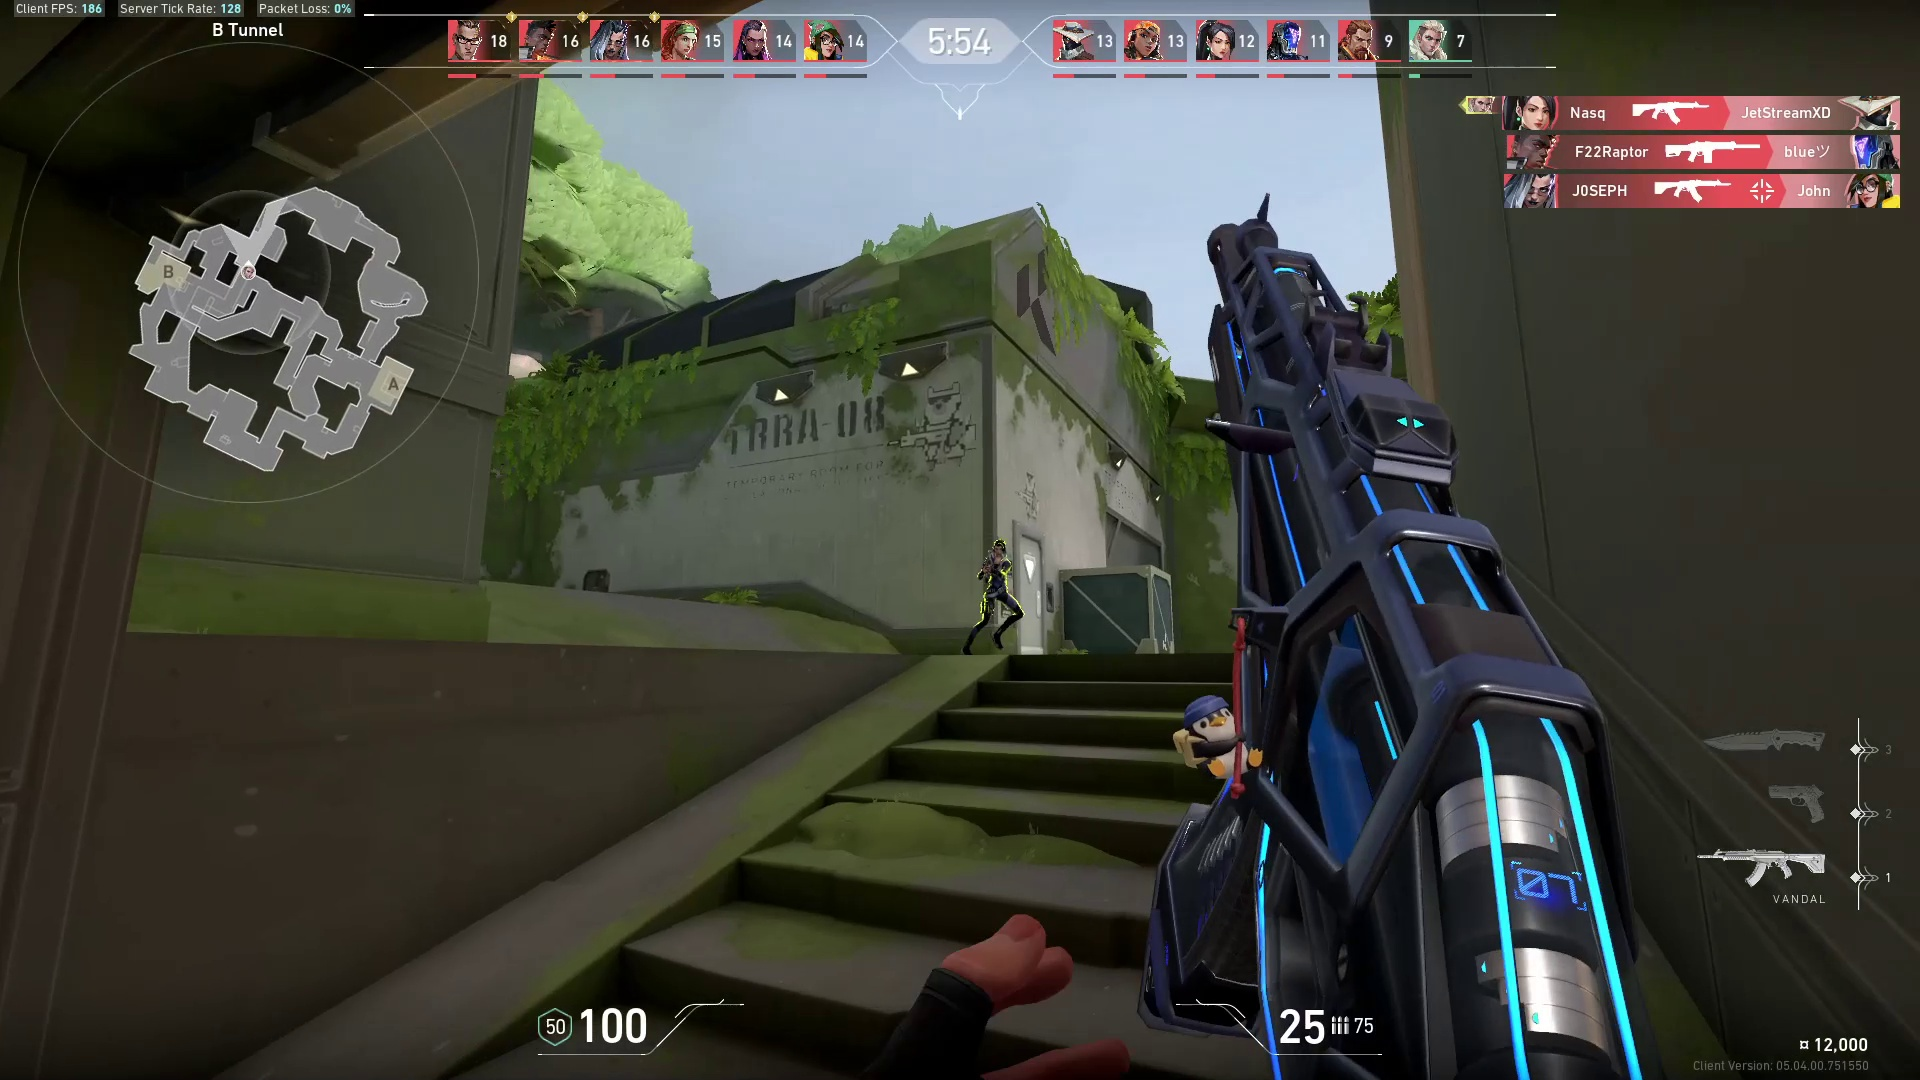enemy_body: (959, 559, 1029, 659)
enemy_head: (982, 535, 1013, 559)
